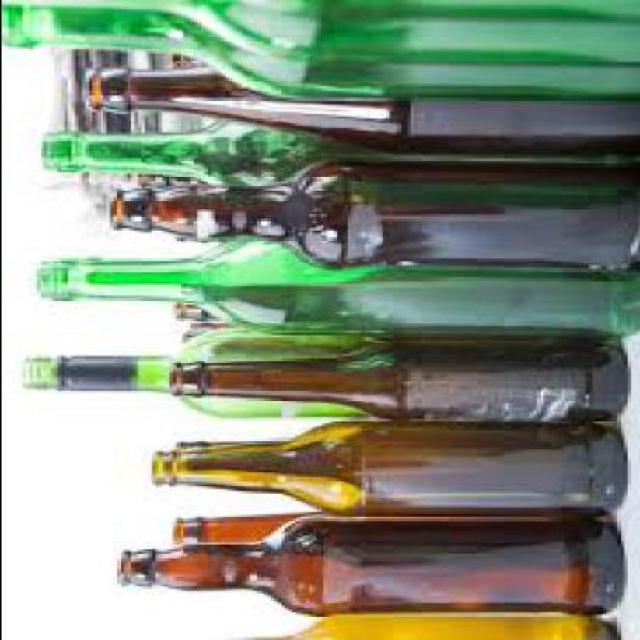GLASS: (105, 150, 637, 268), (31, 236, 637, 336), (0, 0, 637, 95), (77, 58, 637, 158), (112, 512, 619, 614), (147, 415, 619, 510), (164, 336, 622, 418), (18, 322, 374, 422), (32, 118, 353, 191), (217, 612, 615, 638), (168, 512, 322, 545)
